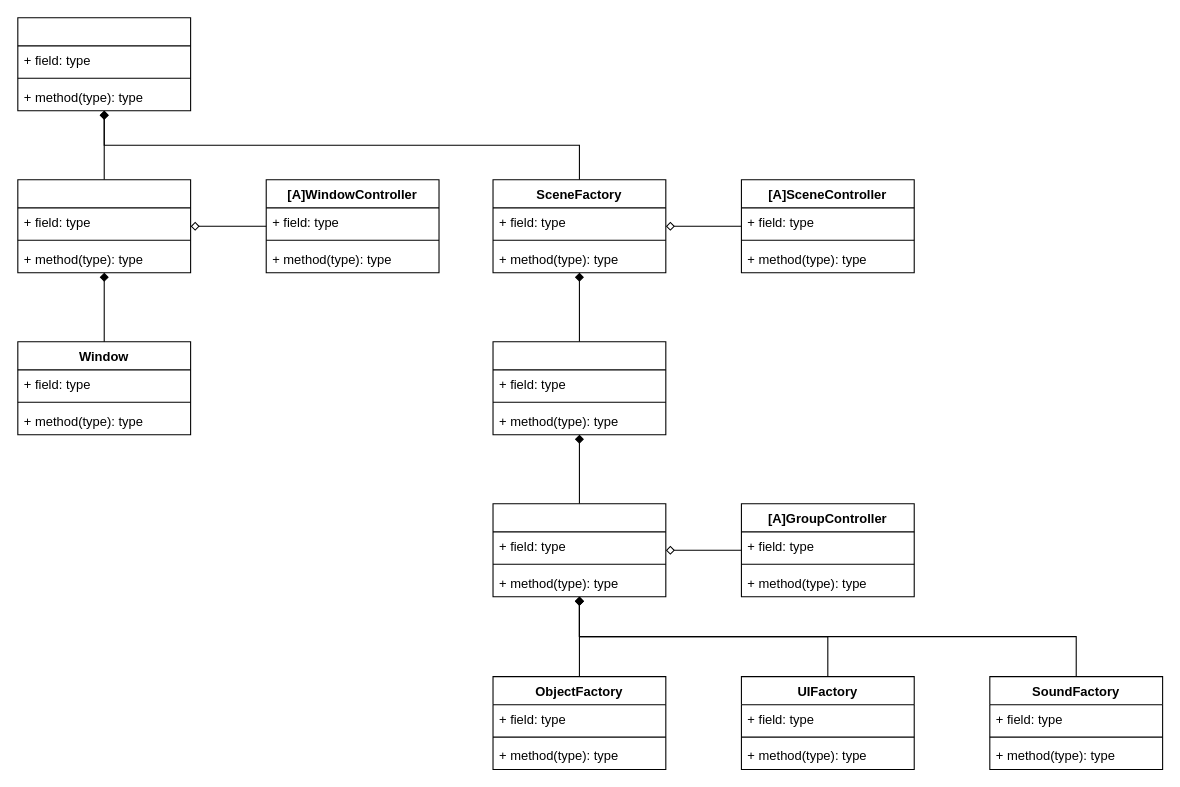
This 1180x787 diagram has some shape labels left out. Each missing label, with the box of its shape:
CuRendCoreFactory: (17, 17, 191, 111)
GroupFactory: (492, 503, 666, 597)
Scene: (492, 341, 666, 435)
WindowFactory: (17, 179, 191, 273)
